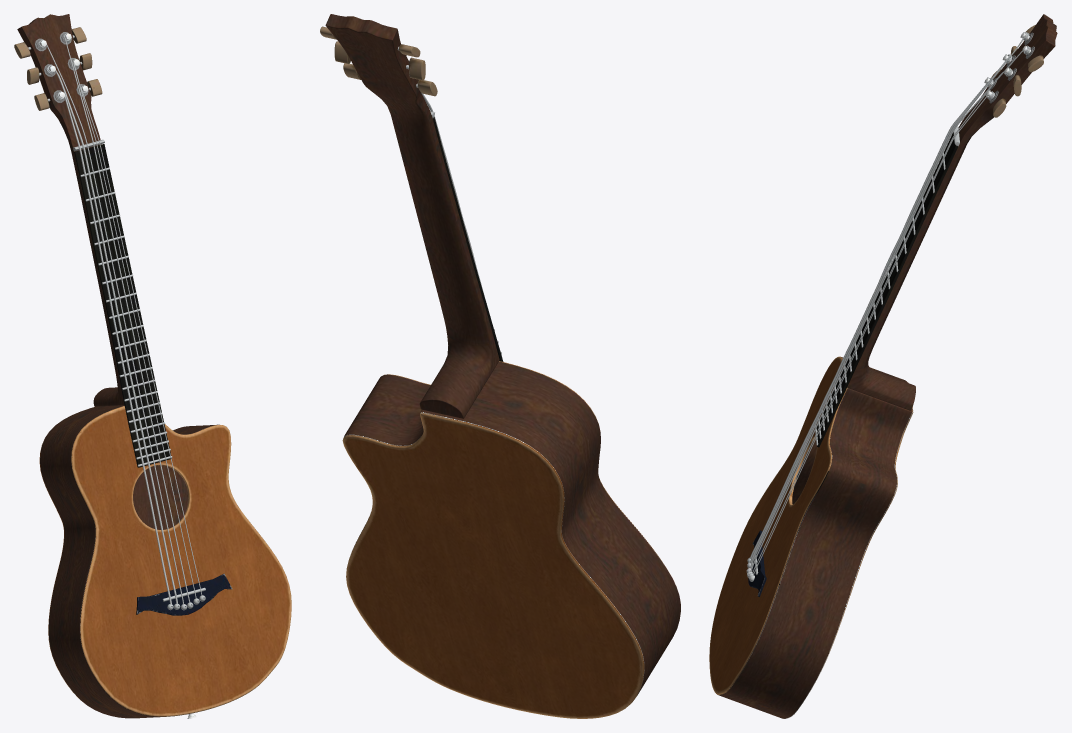
The model's file is guitar2.glb.
3 views of the same model, side by side, from view 1: azimuth 30°, elevation 25°; view 2: azimuth 150°, elevation 25°; view 3: azimuth 270°, elevation 25° (orthographic). The views are drawn at different scales.
Parts seen in each view (by area): view 1: Object_13, Object_5, Object_6, Object_4, Object_3, Object_8, Object_7, Object_11, Object_9, Object_12, Object_10; view 2: Object_13, Object_6, Object_4, Object_5; view 3: Object_13, Object_6, Object_5, Object_4, Object_3, Object_11, Object_7, Object_9, Object_8, Object_12, Object_10.
Part boxes in pixels (x1,y1,x2,y2): Object_13: [39, 405, 291, 718]; Object_5: [74, 144, 205, 610]; Object_6: [17, 14, 124, 406]; Object_4: [14, 27, 232, 615]; Object_3: [27, 32, 205, 718]; Object_8: [46, 65, 177, 604]; Object_7: [57, 91, 171, 604]; Object_11: [38, 40, 183, 604]; Object_9: [63, 33, 190, 602]; Object_12: [72, 59, 196, 598]; Object_10: [80, 86, 202, 595]; Object_13: [342, 361, 680, 718]; Object_6: [325, 14, 499, 418]; Object_4: [320, 26, 437, 118]; Object_5: [433, 117, 503, 361]; Object_13: [709, 356, 913, 718]; Object_6: [847, 14, 1057, 410]; Object_5: [746, 132, 957, 581]; Object_4: [748, 25, 1043, 596]; Object_3: [754, 32, 1034, 574]; Object_11: [750, 32, 1029, 568]; Object_7: [749, 78, 993, 558]; Object_9: [750, 45, 1030, 571]; Object_8: [750, 54, 1012, 563]; Object_12: [752, 67, 1012, 573]; Object_10: [753, 91, 994, 575].
Bounding box in the file's own units: 4.16 × 11.16 × 5.25.
Materials: 1 (1 with a texture image).
